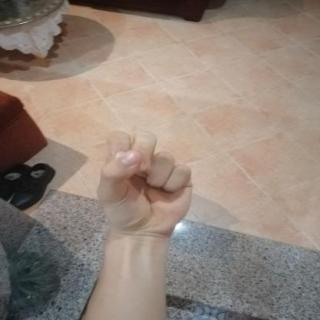QAAF: (90, 115, 198, 241)
